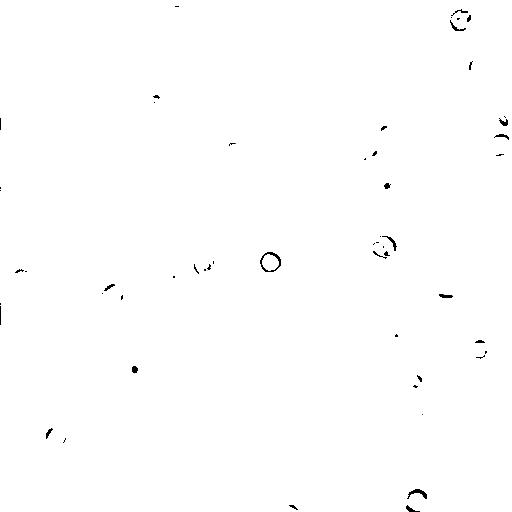micro-algae: (284, 225, 368, 314), (110, 337, 147, 381), (27, 63, 67, 101), (369, 172, 402, 208), (91, 377, 120, 415), (424, 295, 464, 319), (98, 281, 127, 313), (47, 253, 78, 282), (118, 349, 146, 379), (222, 138, 251, 166), (407, 409, 437, 436), (43, 421, 71, 447), (370, 234, 398, 259), (191, 252, 217, 278), (487, 132, 512, 159), (449, 8, 475, 33), (469, 51, 490, 80), (259, 249, 283, 274), (403, 488, 429, 511), (9, 267, 32, 291), (1, 304, 24, 327), (376, 123, 398, 147), (433, 273, 457, 295), (376, 328, 401, 347), (26, 24, 48, 45), (356, 140, 378, 161), (466, 339, 488, 359), (401, 370, 425, 388), (29, 303, 50, 322), (162, 262, 182, 280), (164, 0, 193, 8), (495, 112, 510, 127), (272, 504, 298, 511)
